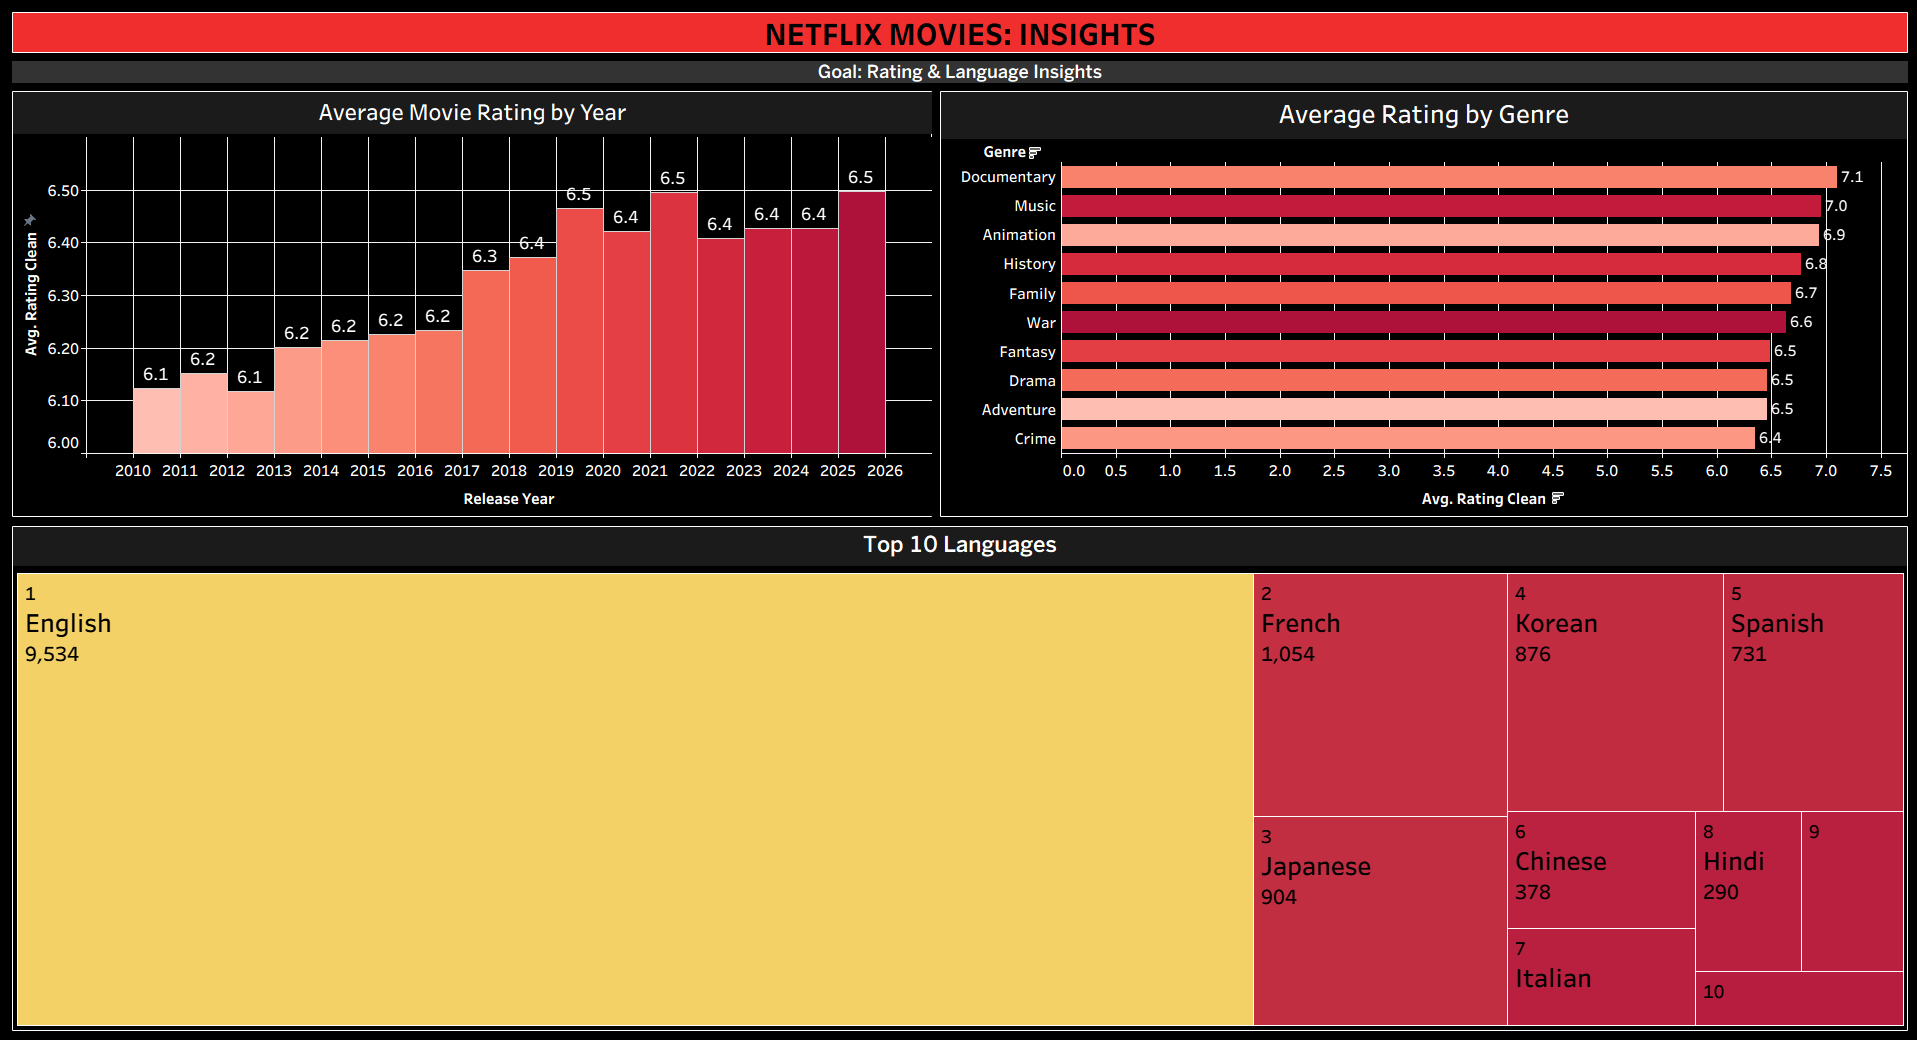

The page's visual inventory and layout, read from the dashboard file:
{"tool":"tableau","page":{"name":"Dashboard 2","canvas":[1000,1000],"units":"permille","ordinal":1},"visuals":[{"type":"title","box":[4.2,7.7,991.7,47]},{"type":"text","box":[4.2,54.6,991.7,28.8]},{"type":"worksheet","title":"Chart_Rating_by_Year","mark":"Bar","rows":["rating_clean"],"cols":["release_year"],"box":[4.2,83.4,483.6,416.5]},{"type":"worksheet","title":"Chart_Genre_Performance","mark":"Bar","rows":["genre"],"cols":["rating_clean"],"box":[487.8,83.4,508.1,416.5]},{"type":"worksheet","title":"Chart_Top_Movie_Langauges","mark":"Automatic","box":[4.2,500,991.7,492.3]}]}

Visuals, with their boxes on the dashboard's canvas, which has no fixed pixel size, in thousandths of its width and height (x1, y1, x2, y2). These are canvas units, not pixel positions in the 1917x1040 screenshot, which may show the page scaled, cropped or inside an application window:
title: box=[4, 8, 996, 55]
text: box=[4, 55, 996, 83]
"Chart_Rating_by_Year" worksheet (Bar marks): box=[4, 83, 488, 500]
"Chart_Genre_Performance" worksheet (Bar marks): box=[488, 83, 996, 500]
"Chart_Top_Movie_Langauges" worksheet: box=[4, 500, 996, 992]
